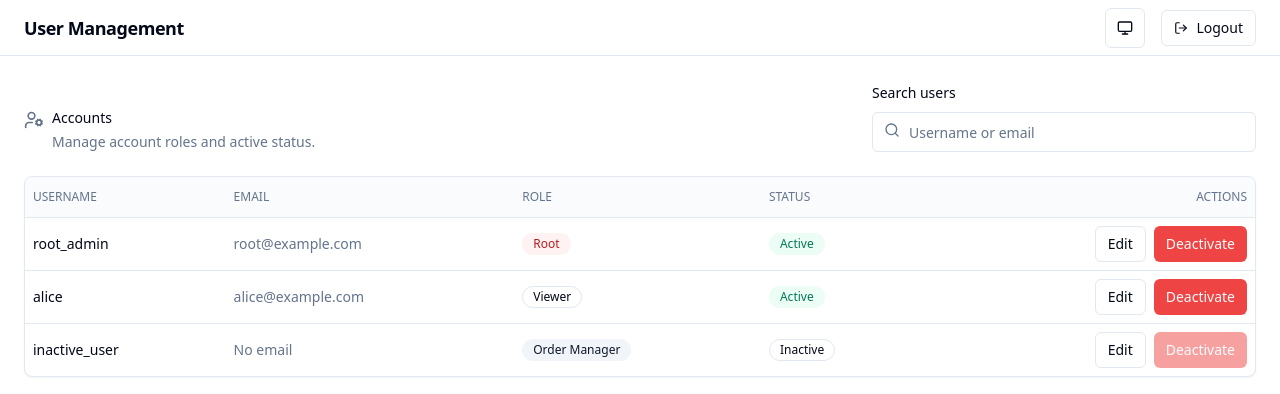
Test case: AdminUsersPage self-action guard › does not lock any row when useCurrentUserId returns null (defensive)
The width and height of the screenshot is (1280, 394).
Expected: the text "root_admin" is shown, [33,234,108,252]
Expected: the button "Deactivate" in the row of "root_admin" is enabled, [1154,226,1247,262]
Step 1. Click the button "Edit" in the row of "root_admin" → (1120, 244), box [1095,226,1146,262]
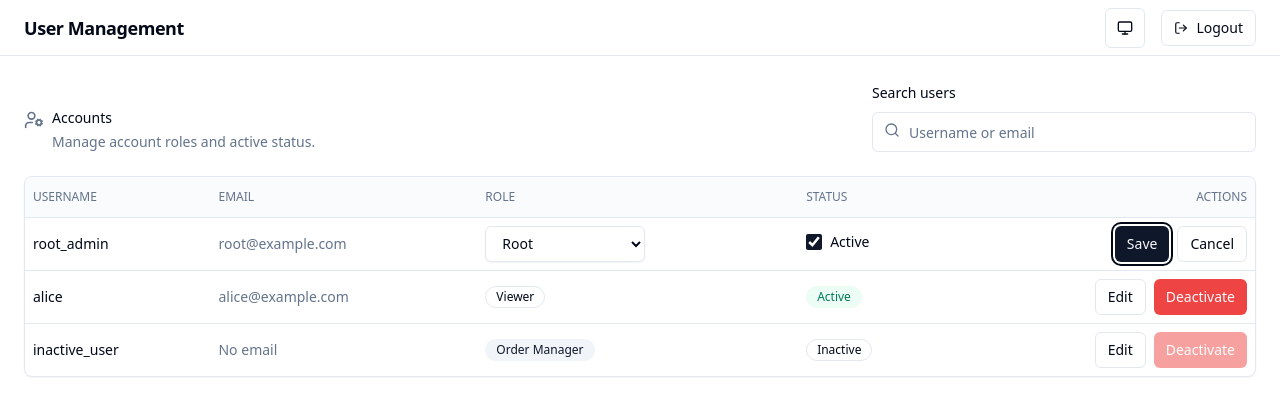
Result: the dropdown named "role for root_admin" is enabled at [485,226,645,262]
Result: the checkbox labelled "Active" is enabled at [806,234,822,250]
